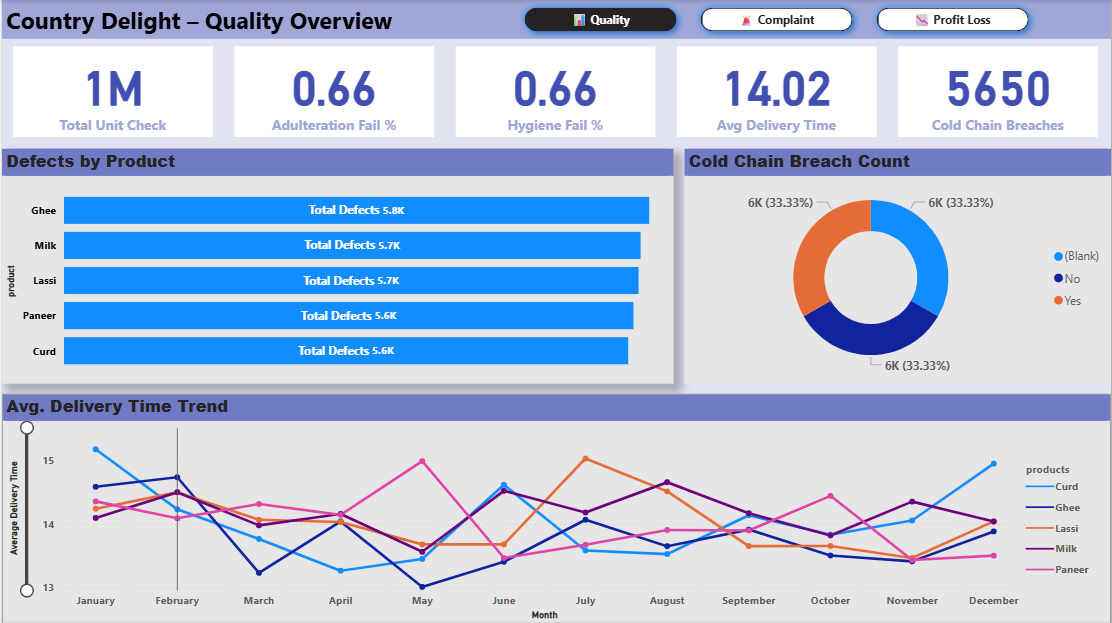

This screenshot's page, from the dashboard's own definition file:
{"tool":"powerbi","page":{"name":"📊 Quality","canvas":[1280,720],"ordinal":0},"visuals":[{"type":"textbox","box":[0,0,1280,44.3],"z":0},{"type":"card","fields":{"Values":["All Measures.Total Unit Check"]},"box":[12.5,53.8,230,105],"z":1000},{"type":"card","fields":{"Values":["All Measures.Adulteration Fail %"]},"box":[267.8,54,230,105],"z":2000},{"type":"card","fields":{"Values":["All Measures.Hygiene Fail %"]},"box":[523.1,54,230,105],"z":3000},{"type":"card","fields":{"Values":["All Measures.Avg Delivery Time"]},"box":[778.4,54,230,105],"z":4000},{"type":"card","fields":{"Values":["All Measures.Cold Chain Breaches"]},"box":[1033.8,53.8,230,105],"z":5000},{"type":"barChart","title":"Defects by Product","fields":{"Category":["quality_data.product"],"Y":["All Measures.Total Defects"]},"box":[0,171.4,752.9,271.4],"z":6000},{"type":"lineChart","title":"Avg. Delivery Time Trend","fields":{"Series":["quality_data.product"],"Category":["quality_data.date.Variation.Date Hierarchy.Month"],"Y":["All Measures.Avg Delivery Time"]},"box":[0,454.3,1280,265.7],"z":7000},{"type":"donutChart","title":"Cold Chain Breach Count","fields":{"Category":["quality_data.cold_chain_breach"],"Y":["All Measures.Cold Chain Breaches"]},"box":[771.4,171.4,509,271.4],"z":8000},{"type":"pageNavigator","box":[593.8,0,600,45],"z":9000}]}

Visuals, with their boxes in screenshot pixels (x1, y1, x2, y2), scaled from the page's 1280x720 canvas onto the 1112x623 screenshot:
textbox: [x1=0, y1=0, x2=1111, y2=38]
card - All Measures.Total Unit Check: [x1=11, y1=47, x2=211, y2=137]
card - All Measures.Adulteration Fail %: [x1=233, y1=47, x2=432, y2=138]
card - All Measures.Hygiene Fail %: [x1=454, y1=47, x2=654, y2=138]
card - All Measures.Avg Delivery Time: [x1=676, y1=47, x2=876, y2=138]
card - All Measures.Cold Chain Breaches: [x1=898, y1=47, x2=1098, y2=137]
"Defects by Product" barChart: [x1=0, y1=148, x2=654, y2=383]
"Avg. Delivery Time Trend" lineChart: [x1=0, y1=393, x2=1111, y2=622]
"Cold Chain Breach Count" donutChart: [x1=670, y1=148, x2=1111, y2=383]
pageNavigator: [x1=516, y1=0, x2=1037, y2=39]
